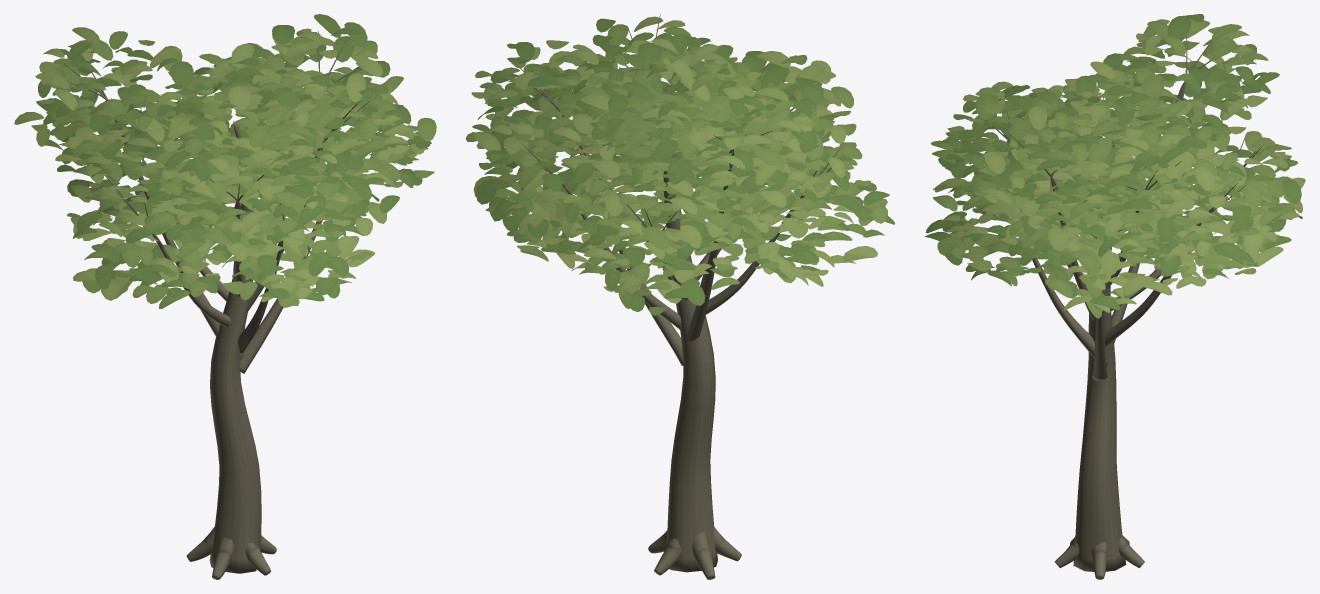
The model's file is StreetTree.glb.
3 renders of one model, left to right at view 1: azimuth 30°, elevation 25°; view 2: azimuth 150°, elevation 25°; view 3: azimuth 270°, elevation 25°, orthographic. The views are drawn at different scales.
Parts seen in each view (by area): view 1: StreetTree_NX_TreeLeaves0, StreetTree_NX_TreeLeaves1, StreetTree_NX_TreeLeaves2, StreetTree_NX_TreeBark; view 2: StreetTree_NX_TreeLeaves1, StreetTree_NX_TreeLeaves0, StreetTree_NX_TreeLeaves2, StreetTree_NX_TreeBark; view 3: StreetTree_NX_TreeLeaves0, StreetTree_NX_TreeLeaves1, StreetTree_NX_TreeLeaves2, StreetTree_NX_TreeBark.
Boxes of the visible parts, <box> form: StreetTree_NX_TreeLeaves0: <box>31,27,436,308</box>; StreetTree_NX_TreeLeaves1: <box>38,14,431,301</box>; StreetTree_NX_TreeLeaves2: <box>14,28,425,302</box>; StreetTree_NX_TreeBark: <box>63,31,382,579</box>; StreetTree_NX_TreeLeaves1: <box>472,18,894,315</box>; StreetTree_NX_TreeLeaves0: <box>465,24,887,294</box>; StreetTree_NX_TreeLeaves2: <box>471,16,877,303</box>; StreetTree_NX_TreeBark: <box>515,14,841,579</box>; StreetTree_NX_TreeLeaves0: <box>930,21,1298,318</box>; StreetTree_NX_TreeLeaves1: <box>924,14,1302,309</box>; StreetTree_NX_TreeLeaves2: <box>935,15,1305,312</box>; StreetTree_NX_TreeBark: <box>969,36,1262,579</box>.
Size of the model in its own units: 2.68 by 3.58 by 2.48.
4 materials, 4 textured.
